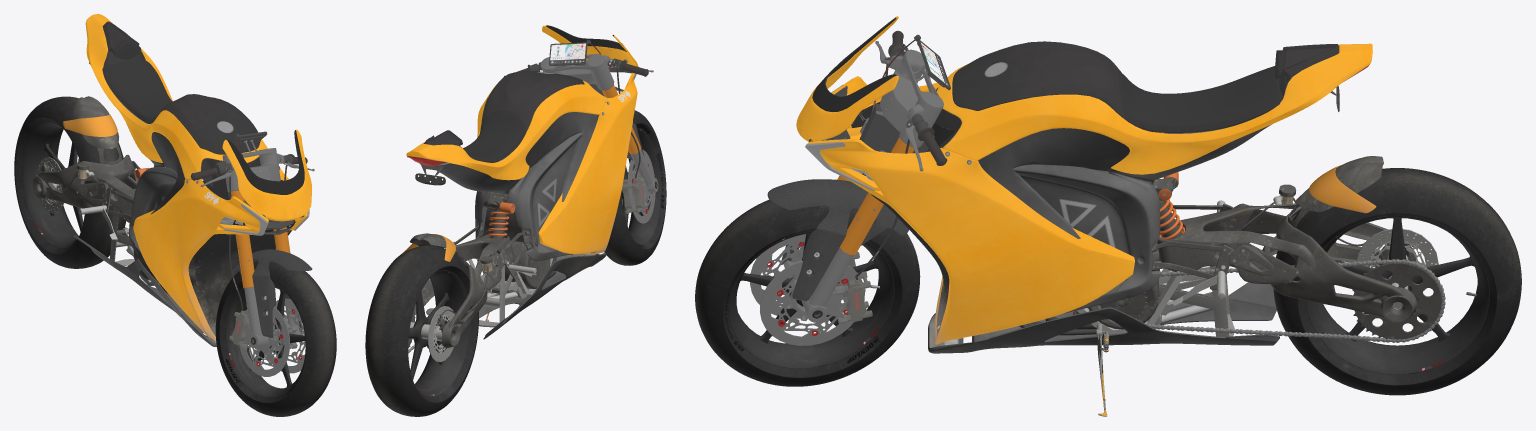
The model's file is sport.glb.
The picture shows the model from 3 angles, left to right: view 1: azimuth 30°, elevation 25°; view 2: azimuth 150°, elevation 25°; view 3: azimuth 270°, elevation 25°; orthographic projection. The views are drawn at different scales.
Parts seen in each view (by area): view 1: Object_20, Object_22, Object_14, Object_25, Object_2, Object_3, Object_23; view 2: Object_2, Object_3, Object_23, Object_22, Object_20, Object_14, Object_25; view 3: Object_20, Object_3, Object_22, Object_2, Object_23, Object_14, Object_25.
Part boxes in pixels (x1,y1,x2,y2): Object_20: (133,129,311,340); Object_22: (85,14,280,187); Object_14: (186,131,314,376); Object_25: (215,260,336,416); Object_2: (14,96,127,268); Object_3: (33,62,191,294); Object_23: (72,78,216,346); Object_2: (365,245,478,416); Object_3: (402,146,557,362); Object_23: (426,112,606,339); Object_22: (406,71,607,180); Object_20: (485,25,638,321); Object_14: (504,39,658,223); Object_25: (604,110,666,265); Object_20: (796,16,1134,416); Object_3: (1019,64,1445,416); Object_22: (934,41,1372,174); Object_2: (1273,168,1521,395); Object_23: (928,65,1312,353); Object_14: (750,30,971,345); Object_25: (695,199,920,386).
Size of the model in its own units: 0.6104 by 1.19 by 2.32.
7 materials, 7 textured.
